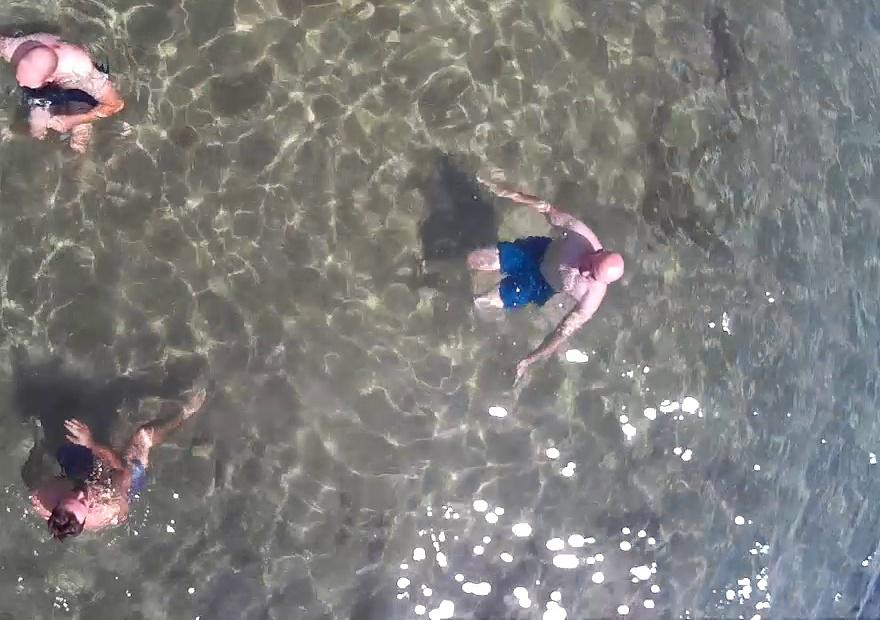human: (447, 144, 620, 410), (0, 378, 221, 537), (0, 9, 127, 165)
